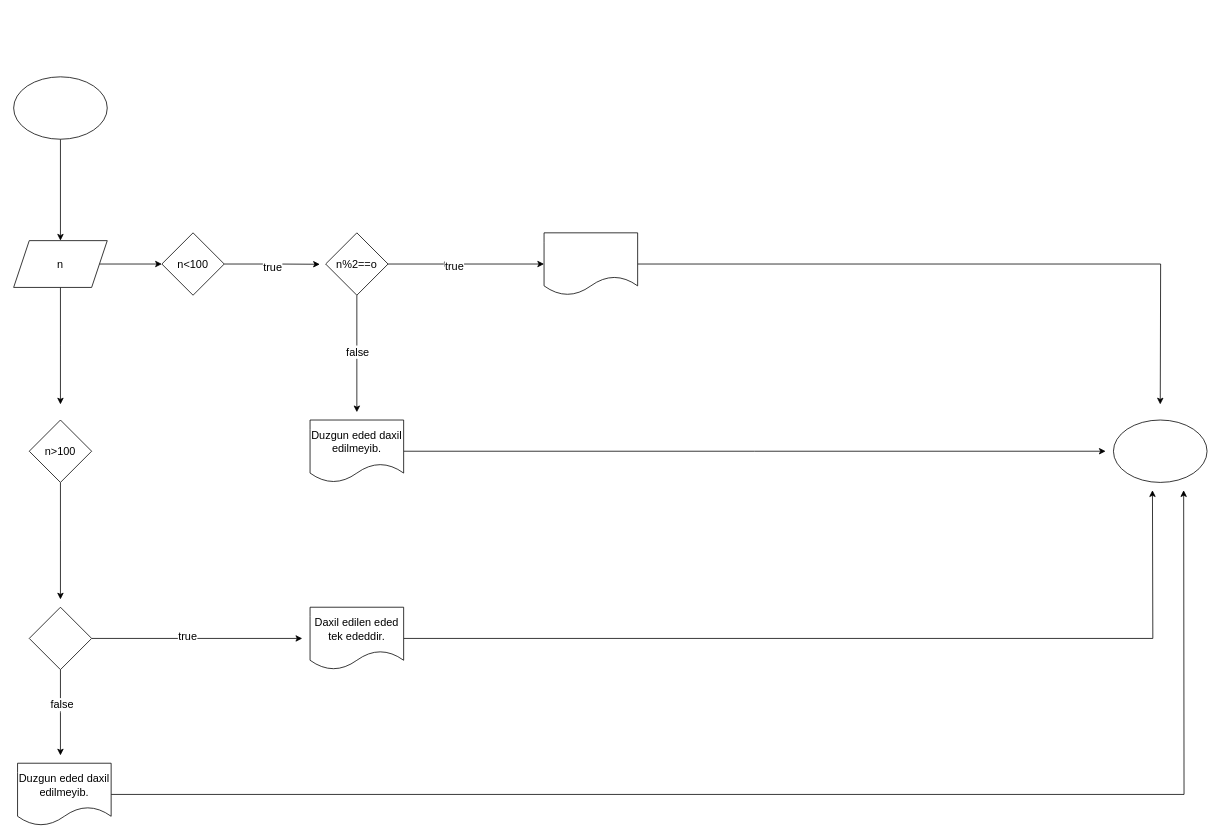
Image size: 1221x839. Some labels were removed from this diagram. The centre of each missing label's shape, as x and y in pixels:
"Daxil edilen eded cut ededdir." belongs at point 590,263.
"End" belongs at point 1160,450.
"n%2==1" belongs at point 60,638.
"Start" belongs at point 60,107.
